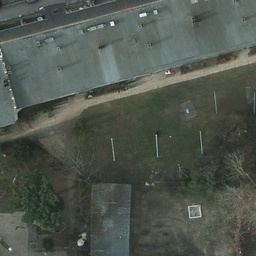car: (19, 0, 37, 3), (0, 0, 2, 8)
